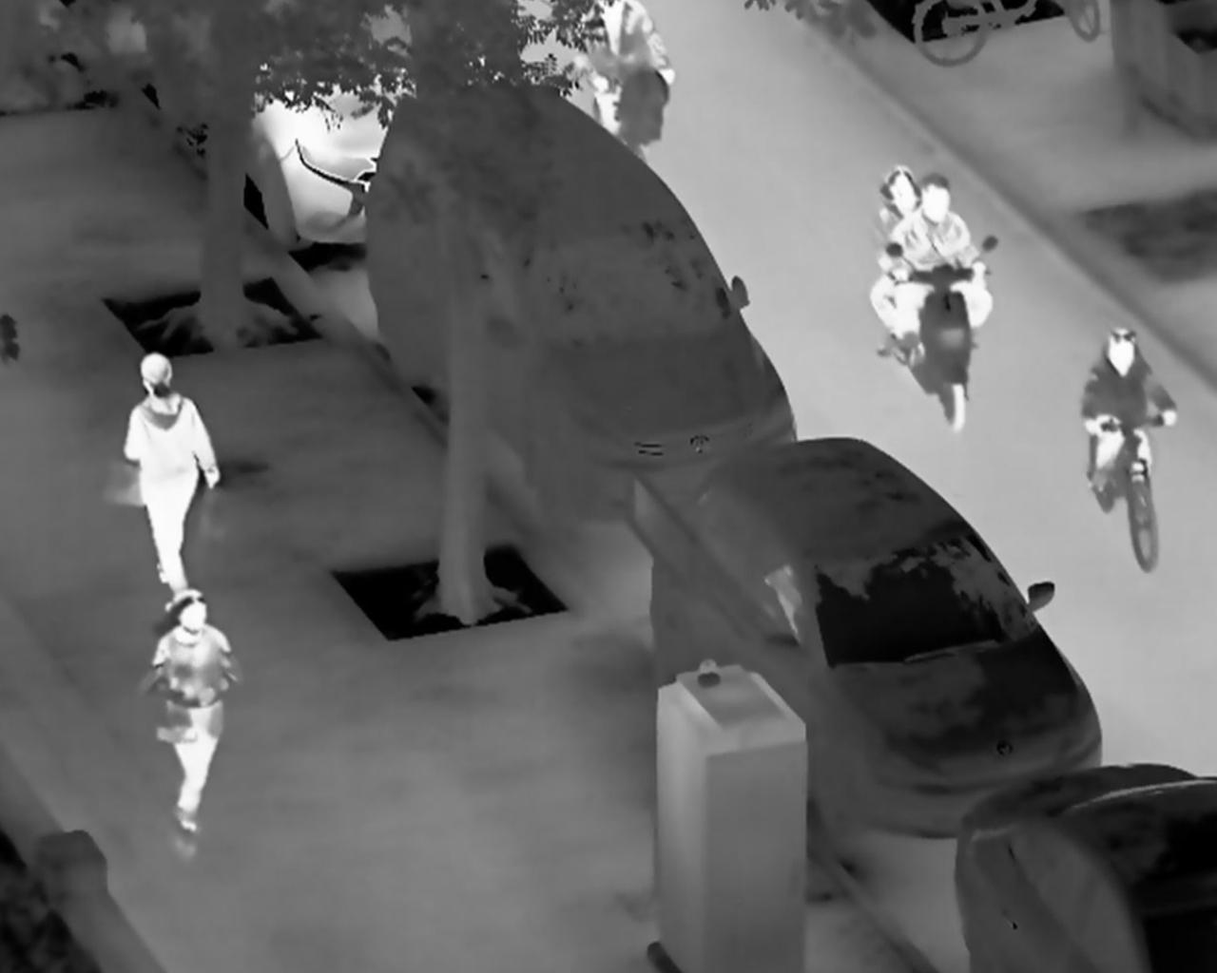person: (121, 350, 221, 600), (152, 587, 243, 838), (892, 171, 996, 363), (1080, 325, 1178, 502)
